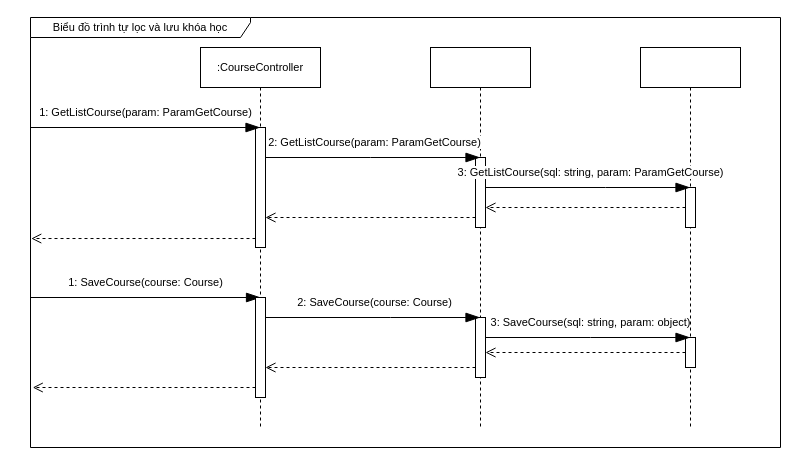
Some shapes in this 798 by 465 pixel diagram are drawn without their labels. Here are the shapes that lost their labels. From the top down, the box of each, then its label:
(430, 46, 530, 428): :CourseService
(640, 46, 740, 428): :CourseRepo
